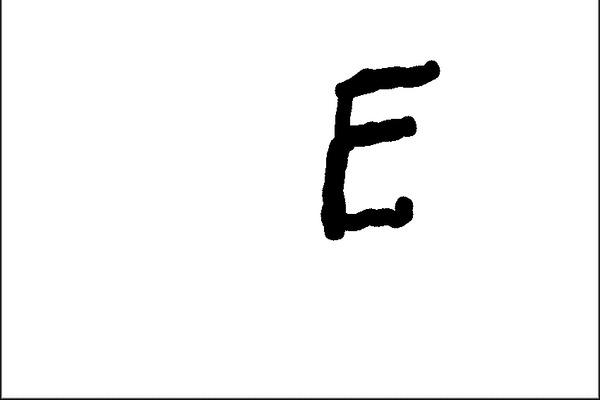E: (315, 51, 442, 244)
